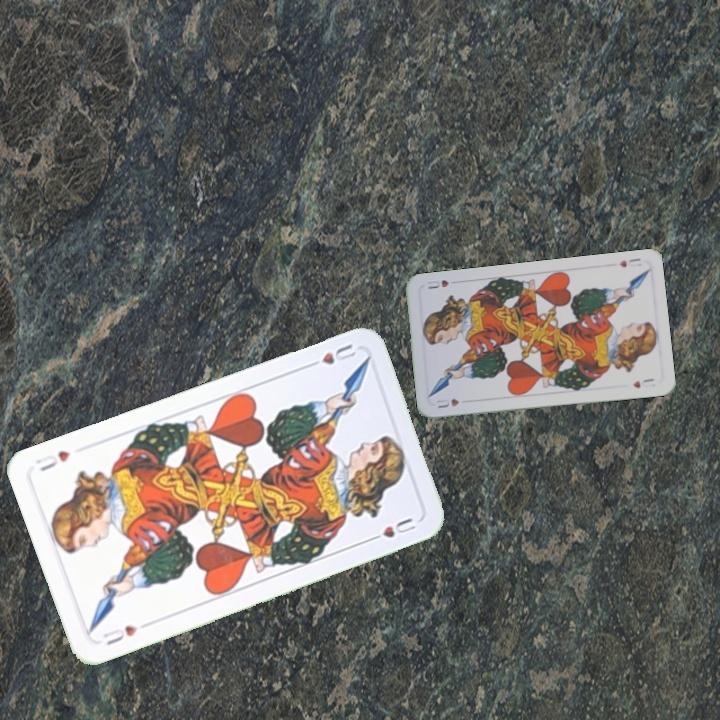HU: (302, 340, 359, 371), (99, 621, 140, 648), (615, 254, 644, 270), (432, 395, 461, 410)
